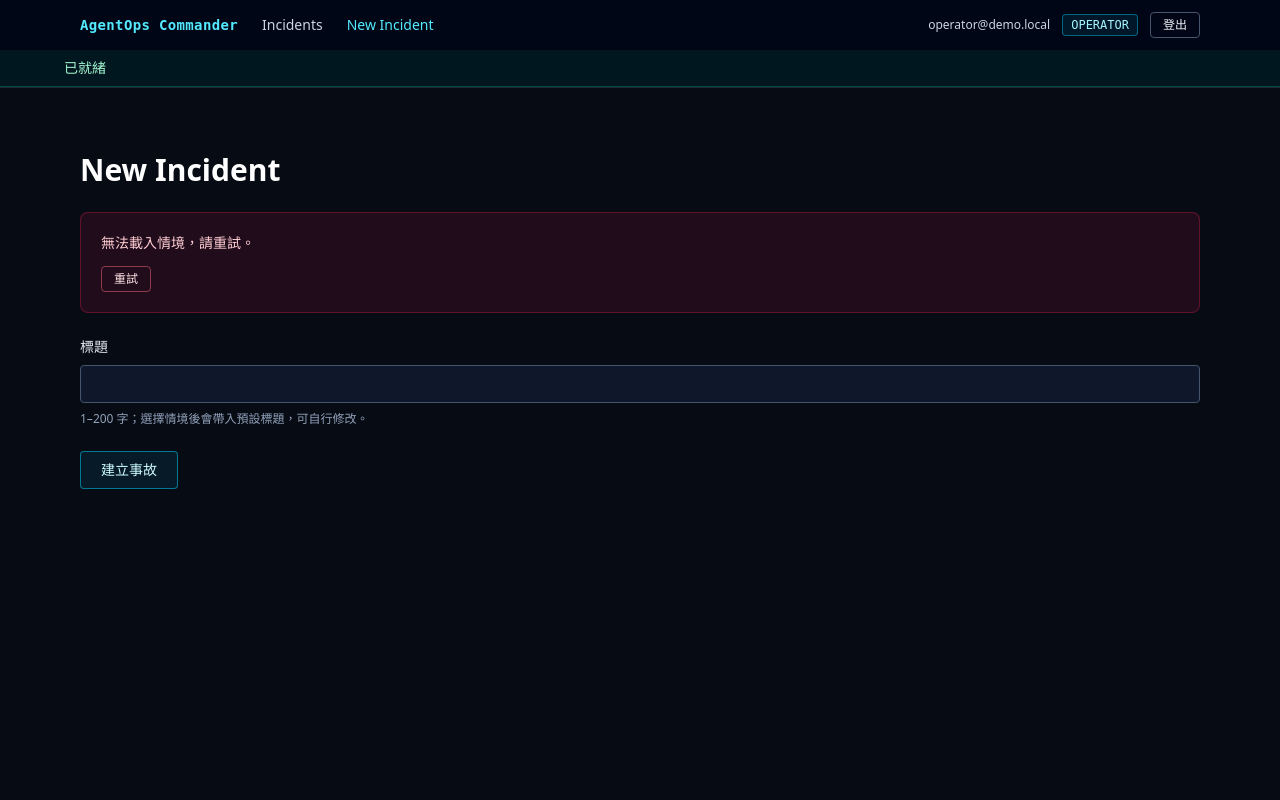
Scenario: /incidents/new › 情境載入失敗：友善訊息與重試
Expected: the text "無法載入情境，請重試。" is shown, left=101, top=233, right=255, bottom=252
Click the button "重試" at (126, 279), box left=101, top=266, right=151, bottom=292
Wait 60 ms
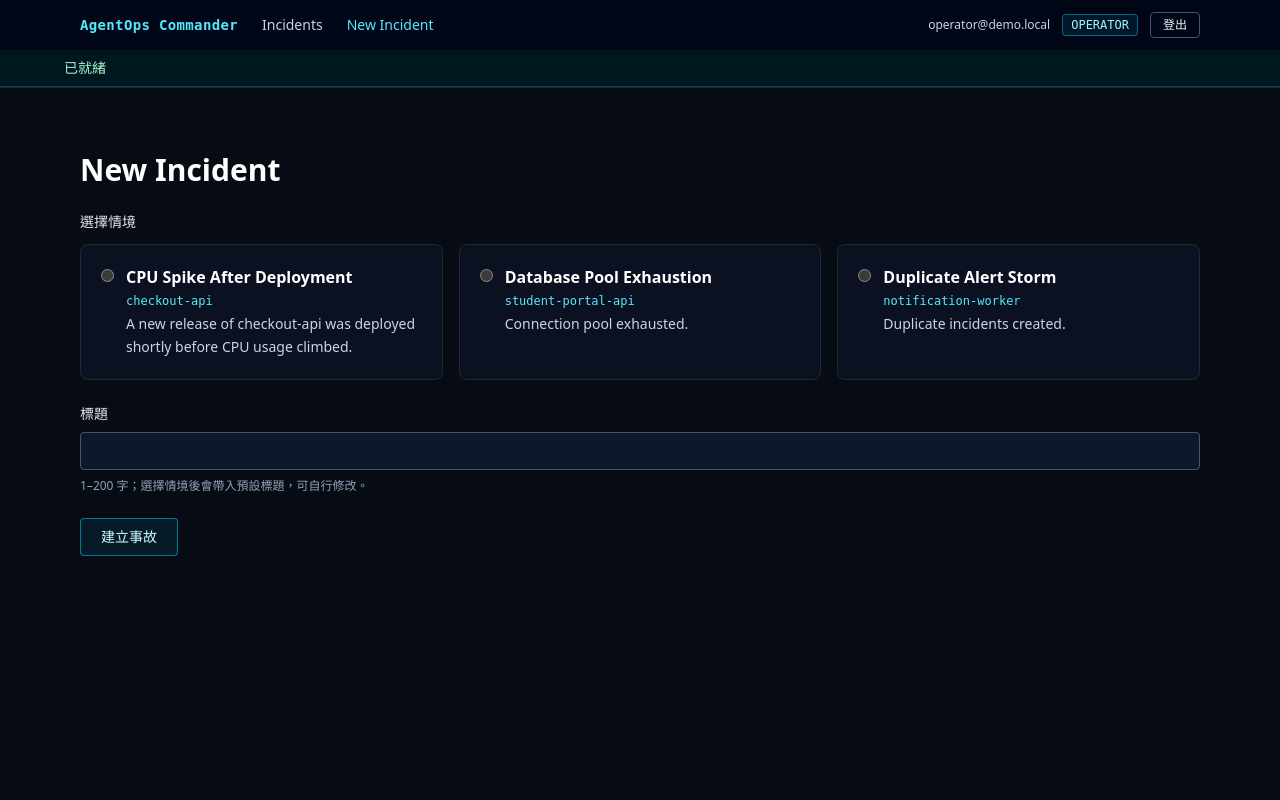
Now the number of radio buttons is 3, box left=101, top=269, right=114, bottom=282; left=480, top=269, right=493, bottom=282; left=858, top=269, right=871, bottom=282
